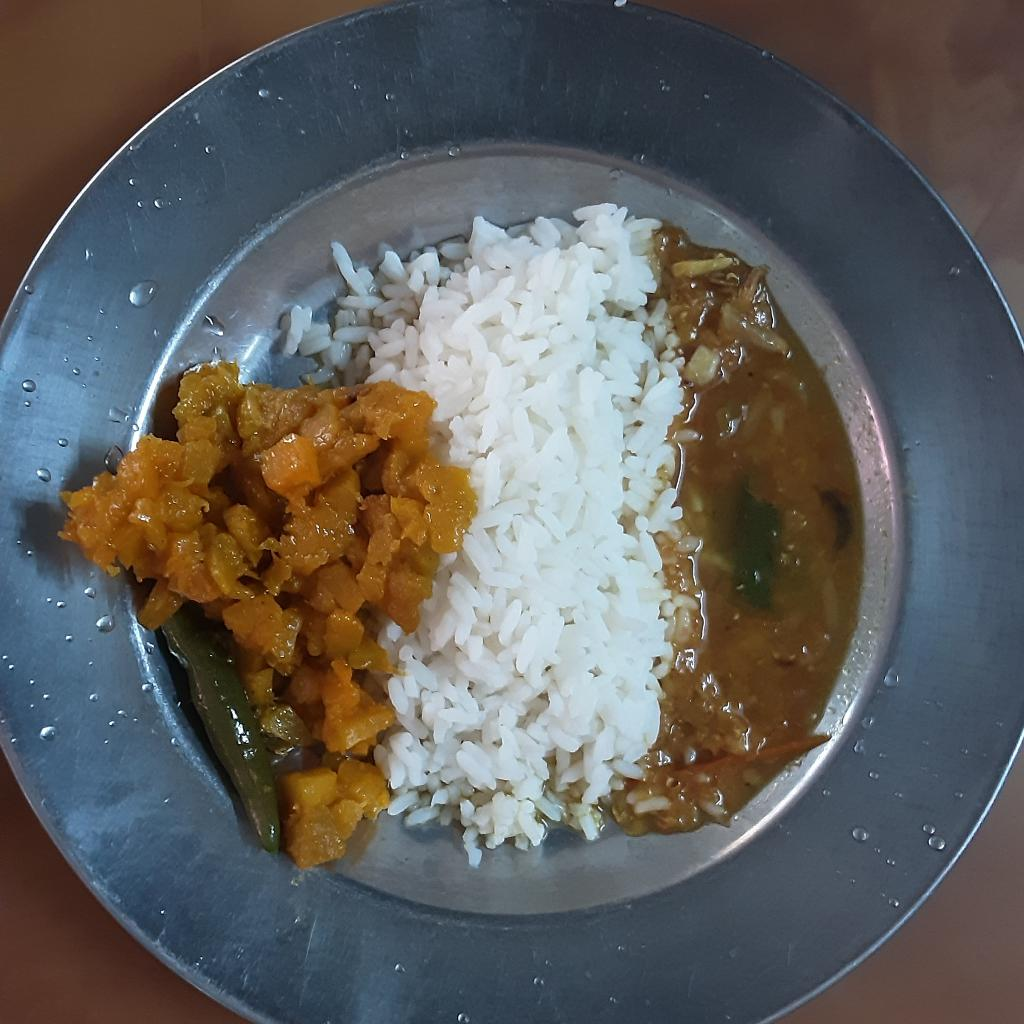daal: (612, 214, 865, 837)
kumra-vaji: (56, 356, 478, 870)
rice: (277, 206, 695, 871)
